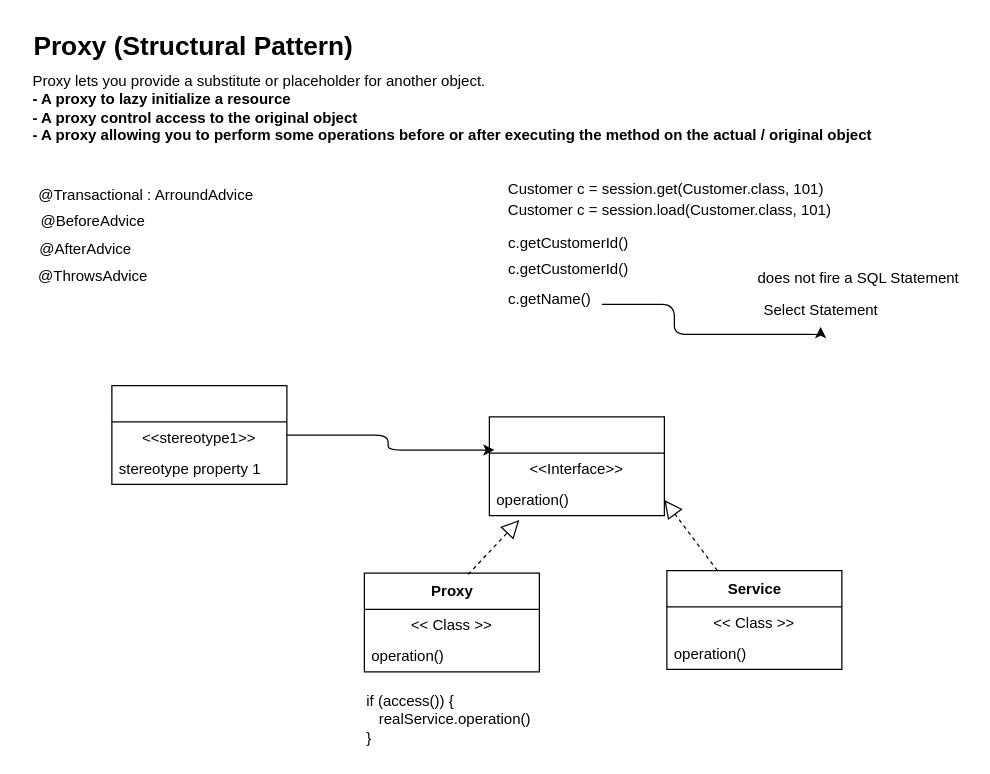
Image size: 990x774. Some labels were removed from this diagram. Here are the shapes that lost their labels. From the top down, the box of each, then its label:
(111, 384, 287, 484): Client
(488, 416, 664, 516): ServiceInterface
